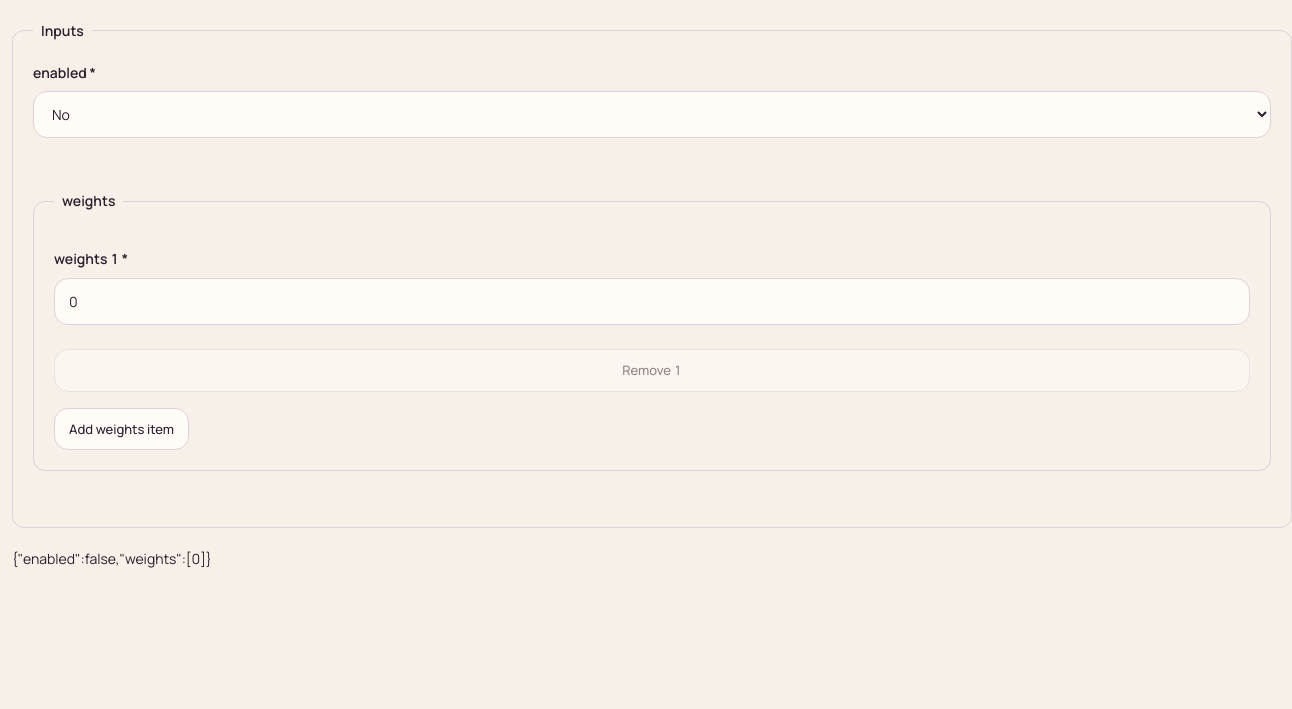
Scenario: structured service inputs › handles nested arrays, numeric and boolean fields without a JSON editor
Step 1. Select "Yes" in the dropdown labelled "enabled *" → (652, 115), box left=33, top=91, right=1271, bottom=138
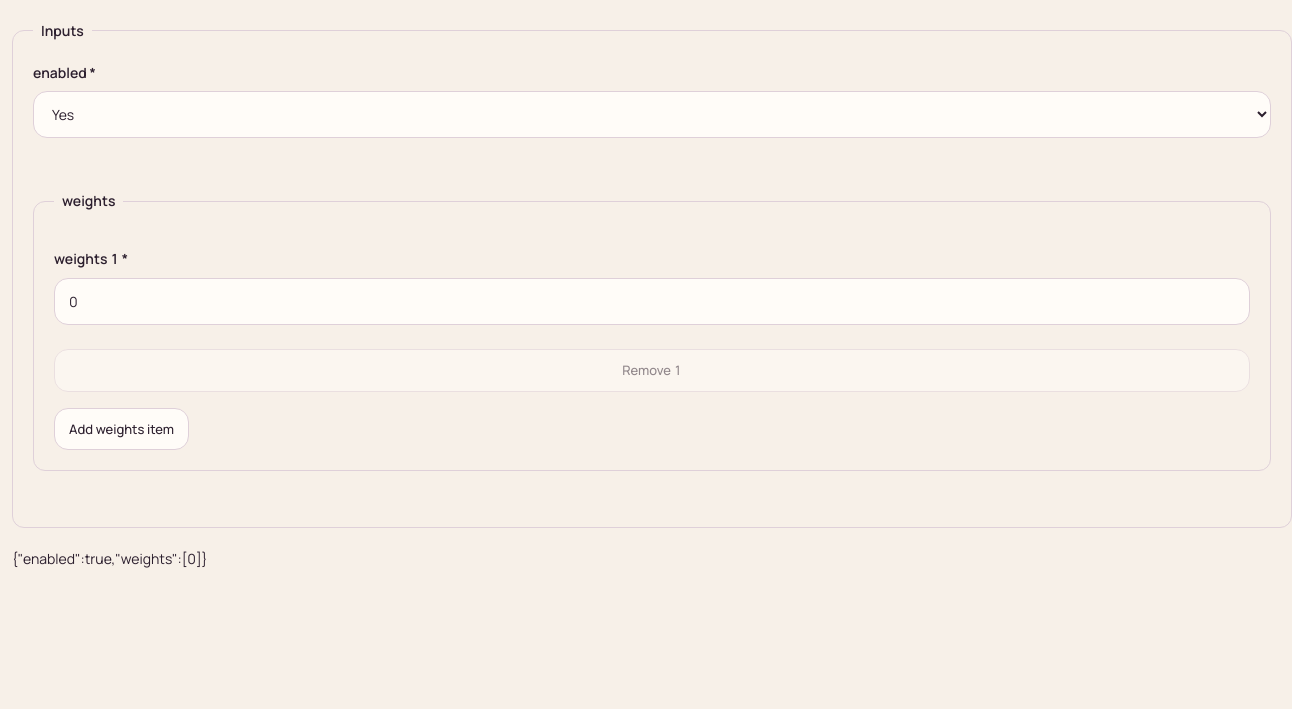
Step 2. Replace the text in the number field labelled "weights 1 *" with "0.5" → (652, 302), box left=54, top=278, right=1250, bottom=326
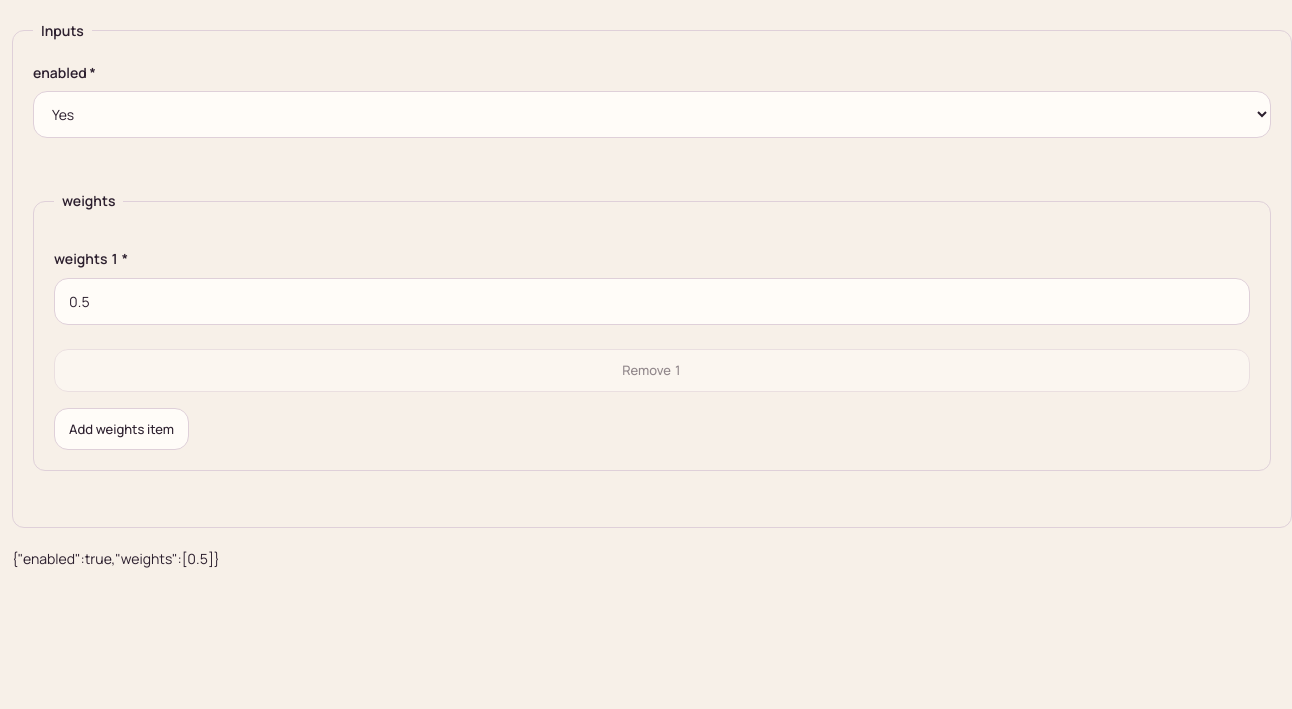
Step 3. Click the button "Add weights item" → (121, 429), box left=54, top=408, right=189, bottom=450
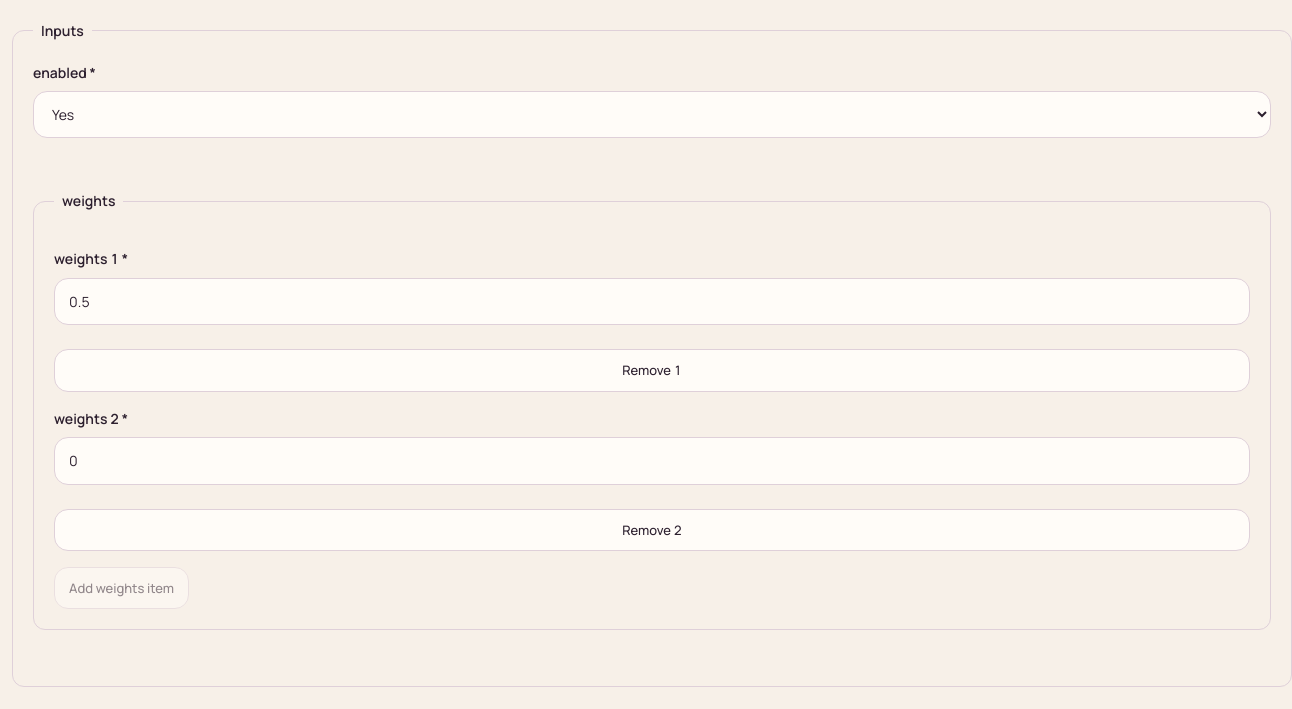
Result: the button "Add weights item" is disabled at left=54, top=567, right=189, bottom=609
Step 4. Click the button "Remove 2" → (652, 530), box left=54, top=509, right=1250, bottom=551
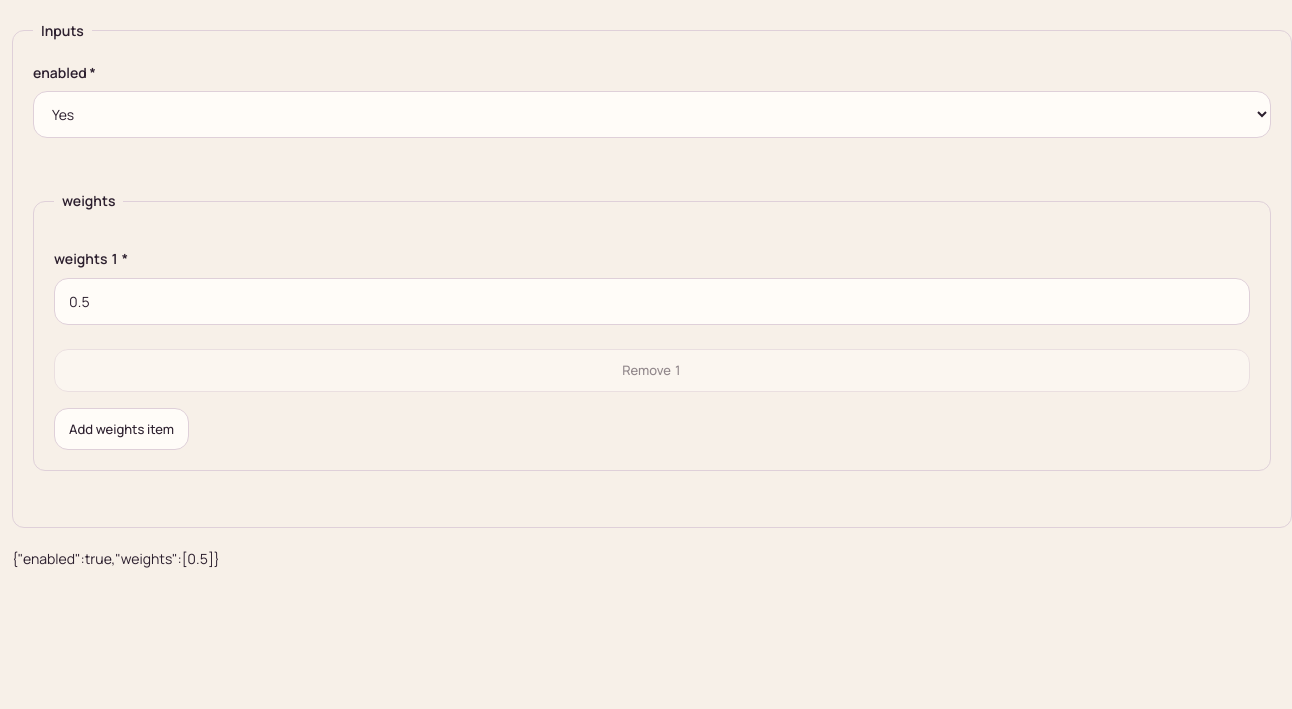
Result: the button "Remove 1" is disabled at left=54, top=349, right=1250, bottom=392
